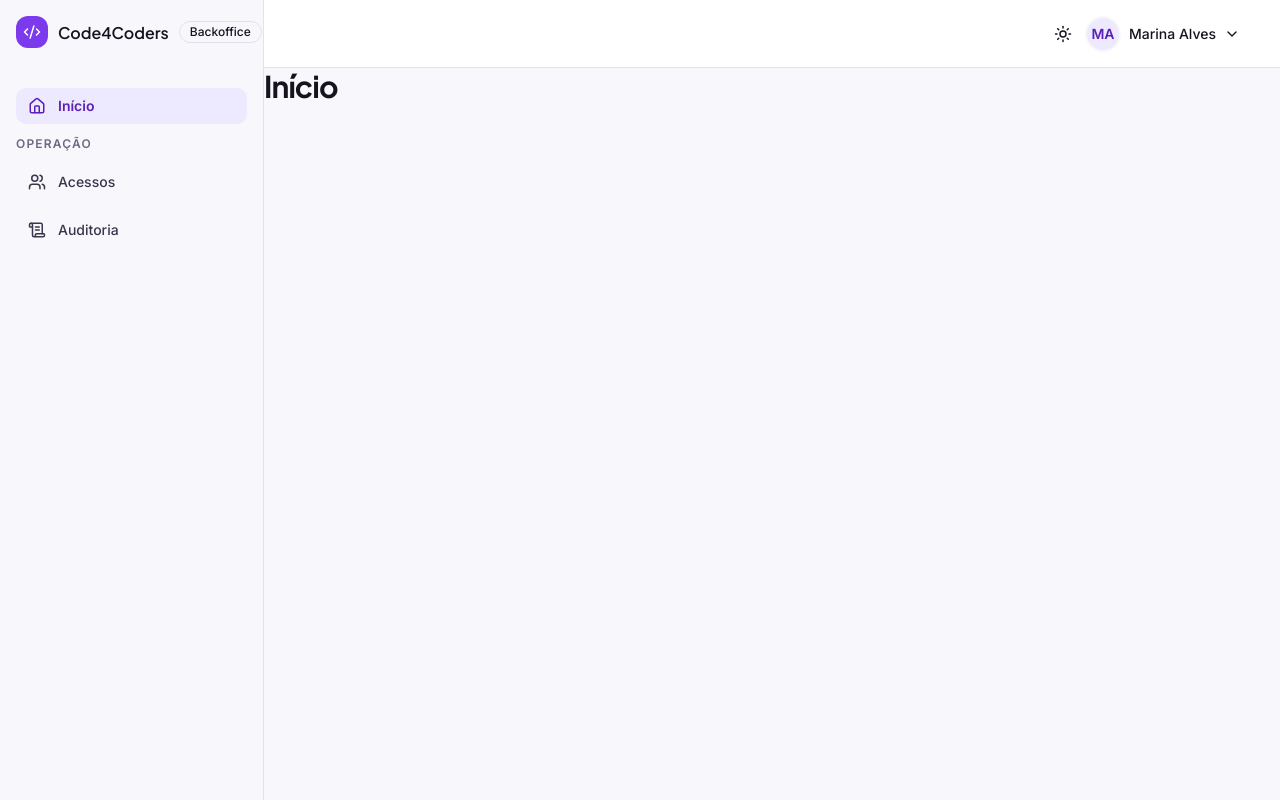
Test: StaffSession areas › clears the logout error when navigating to another admin route
The image size is (1280, 800).
Click the button "MA Marina Alves".
click(1164, 34)  # box [1081,12,1248,56]
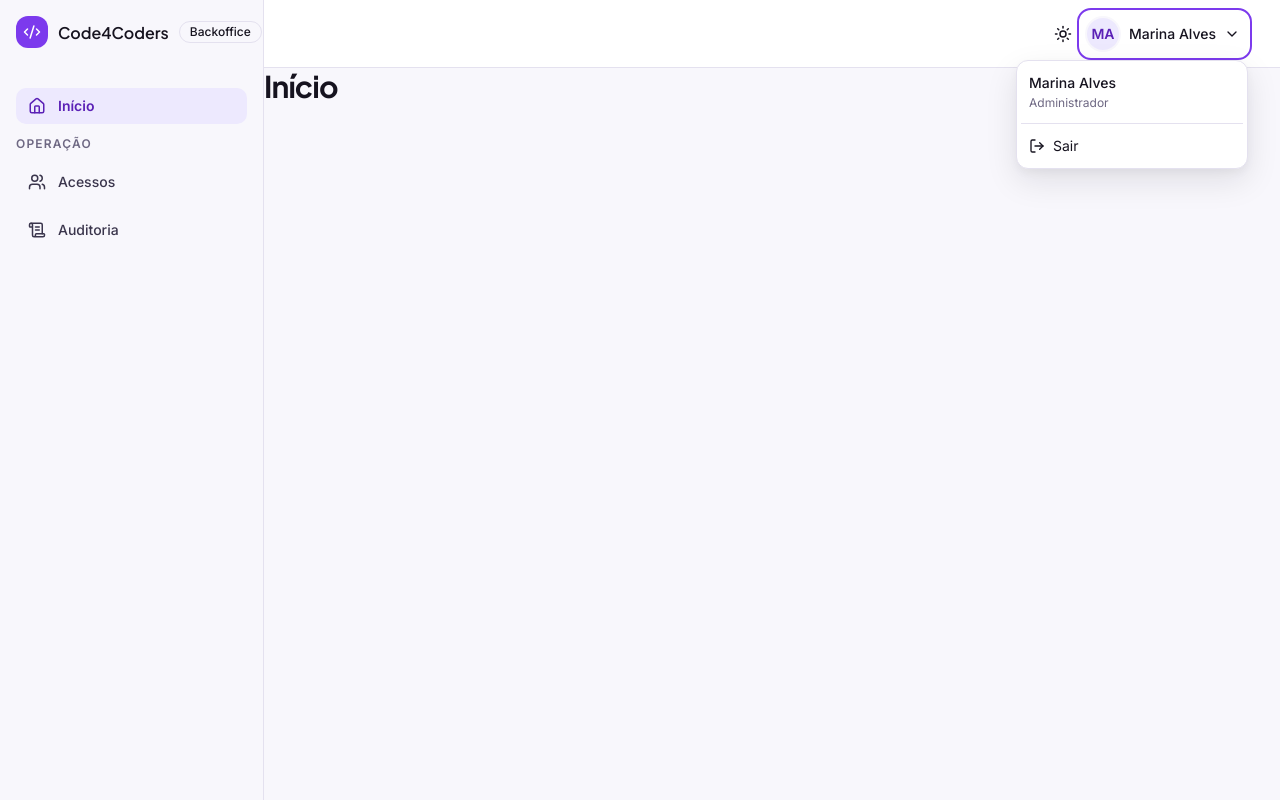
Click the menu item "Sair".
click(1132, 146)  # box [1021,128,1243,164]
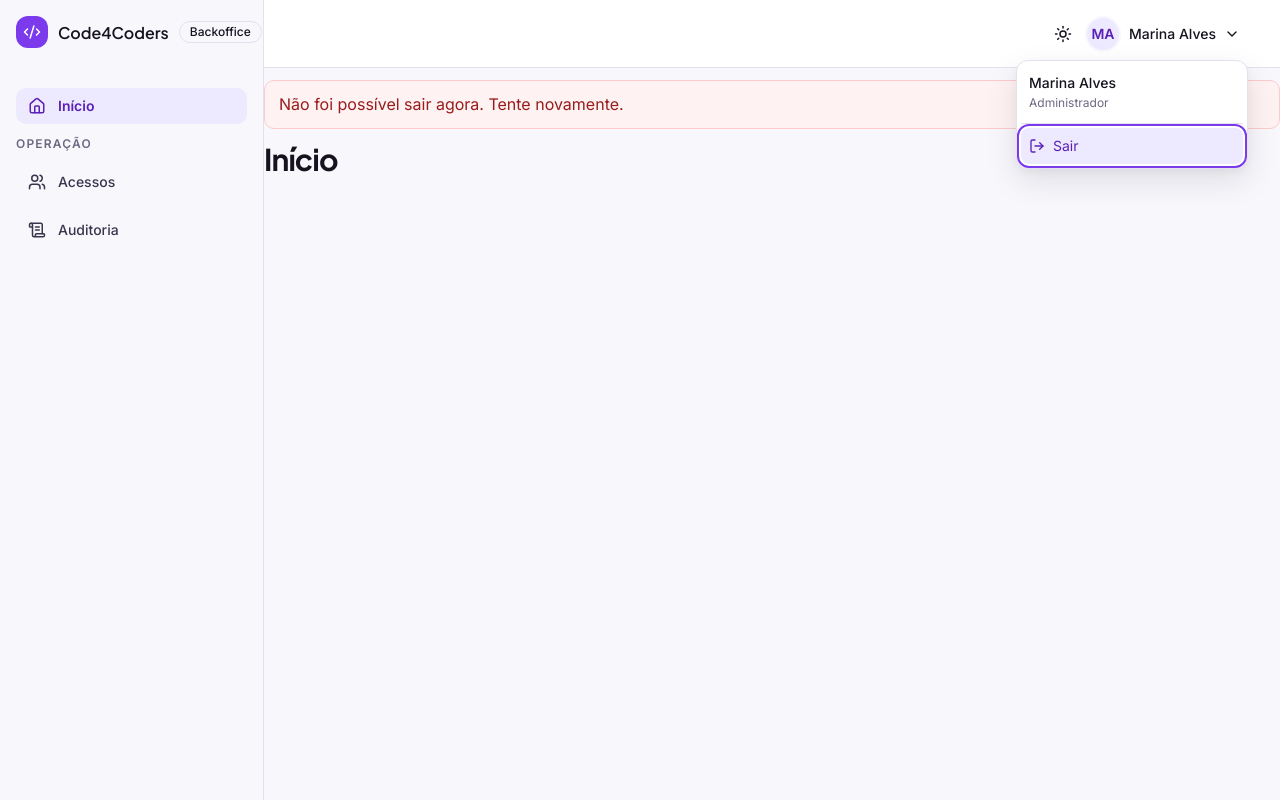
Expected: the message reads "Não foi possível sair agora. Tente novamente.", [279,94,624,114]
Click the link "Acessos".
click(72, 182)  # box [28,173,115,191]
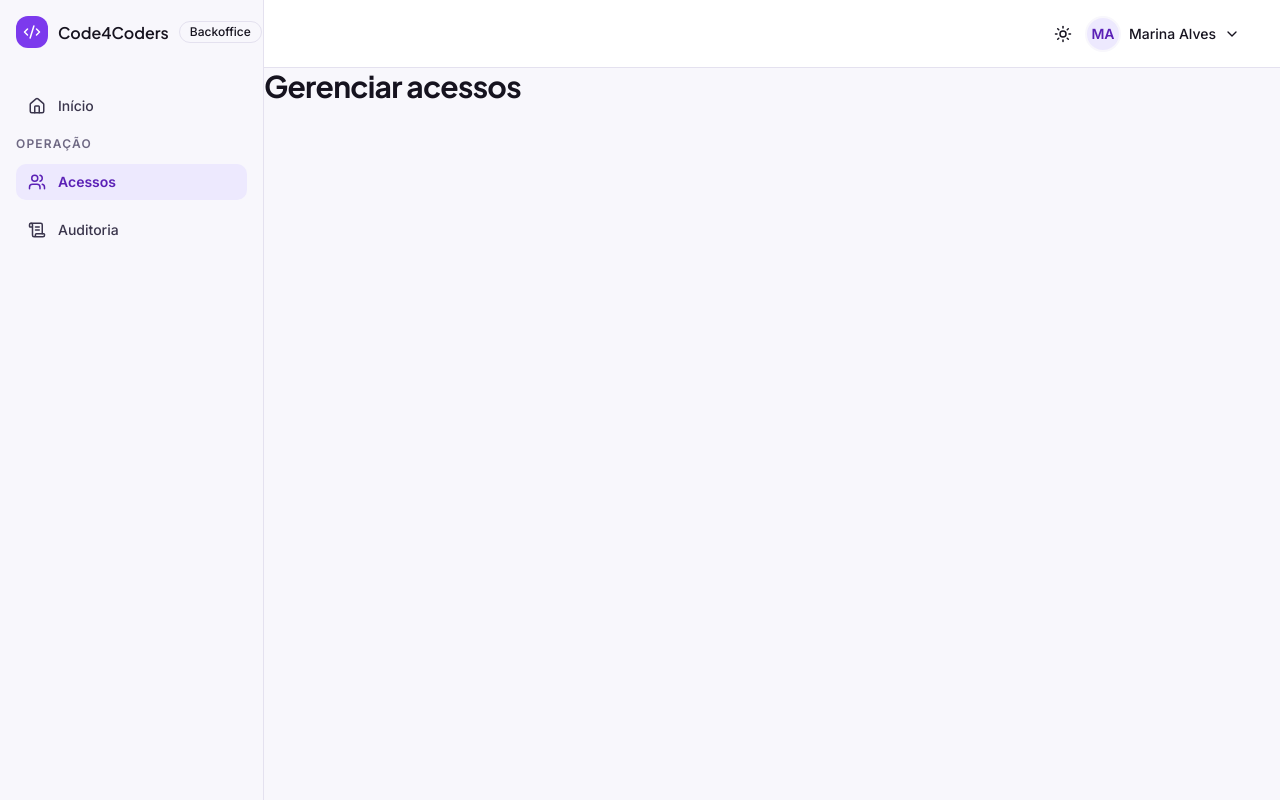
Expected: the heading "Gerenciar acessos" is shown, [264,67,521,105]
Expected: the message "Não foi possível sair agora. Tente novamente." is gone
